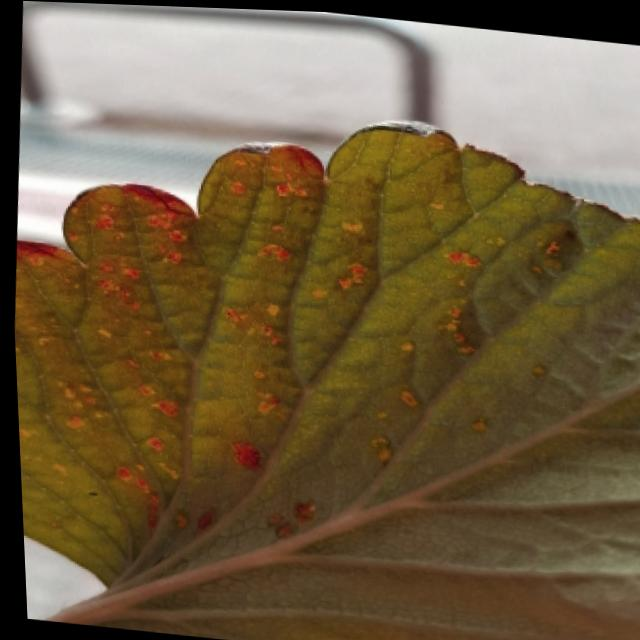Angular Leafspot: (11, 136, 640, 551)
